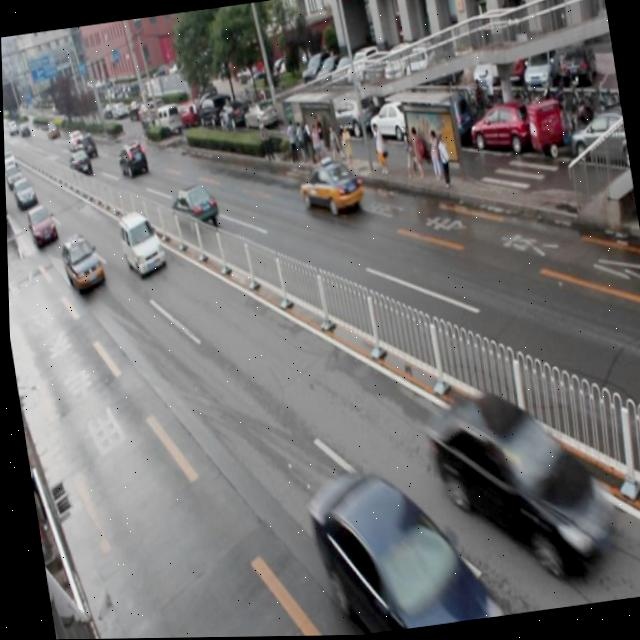car: (421, 383, 620, 600), (301, 457, 496, 637), (293, 154, 363, 221), (114, 207, 166, 278), (57, 230, 105, 293), (167, 182, 219, 230), (25, 203, 59, 249), (114, 139, 148, 180)
